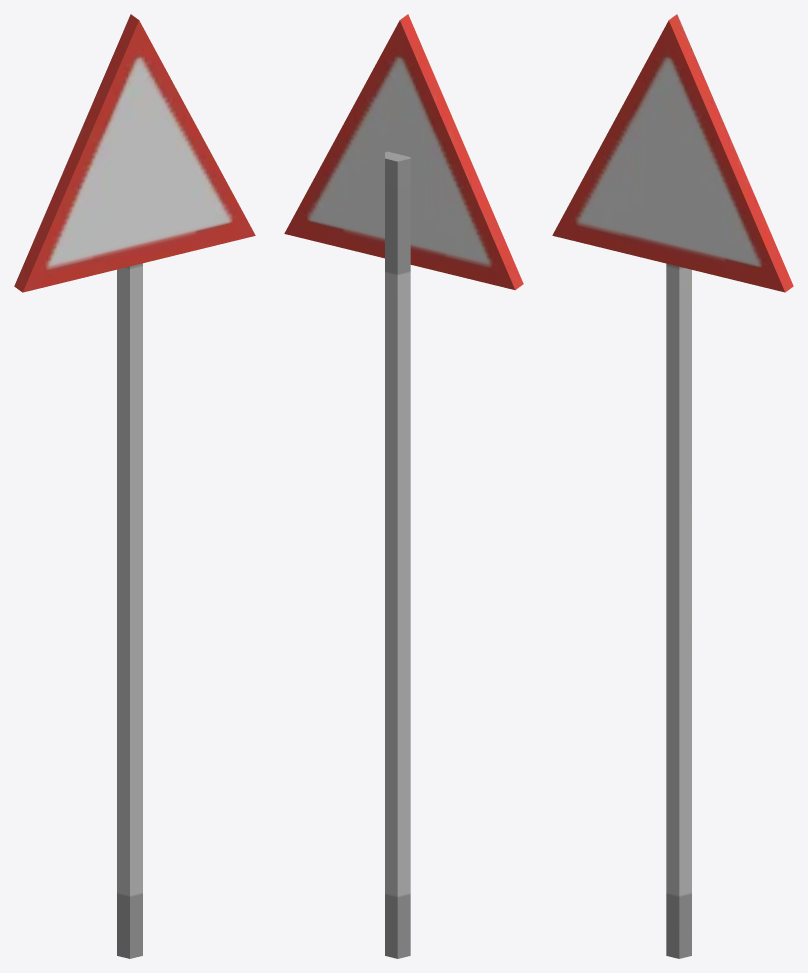
File: city_sign_01.glb
The picture shows the model from 3 angles, left to right: view 1: azimuth 30°, elevation 25°; view 2: azimuth 150°, elevation 25°; view 3: azimuth 330°, elevation 25°; orthographic projection.
Parts seen in each view (by area): view 1: city:polySurface313; view 2: city:polySurface313; view 3: city:polySurface313.
Part boxes in pixels (left/top/right/bottom): city:polySurface313: left=14, top=14, right=255, bottom=958; city:polySurface313: left=284, top=14, right=523, bottom=958; city:polySurface313: left=552, top=14, right=793, bottom=958.
Bounding box in the file's own units: 0.654 × 2.52 × 0.0793.
1 material, 1 textured.
